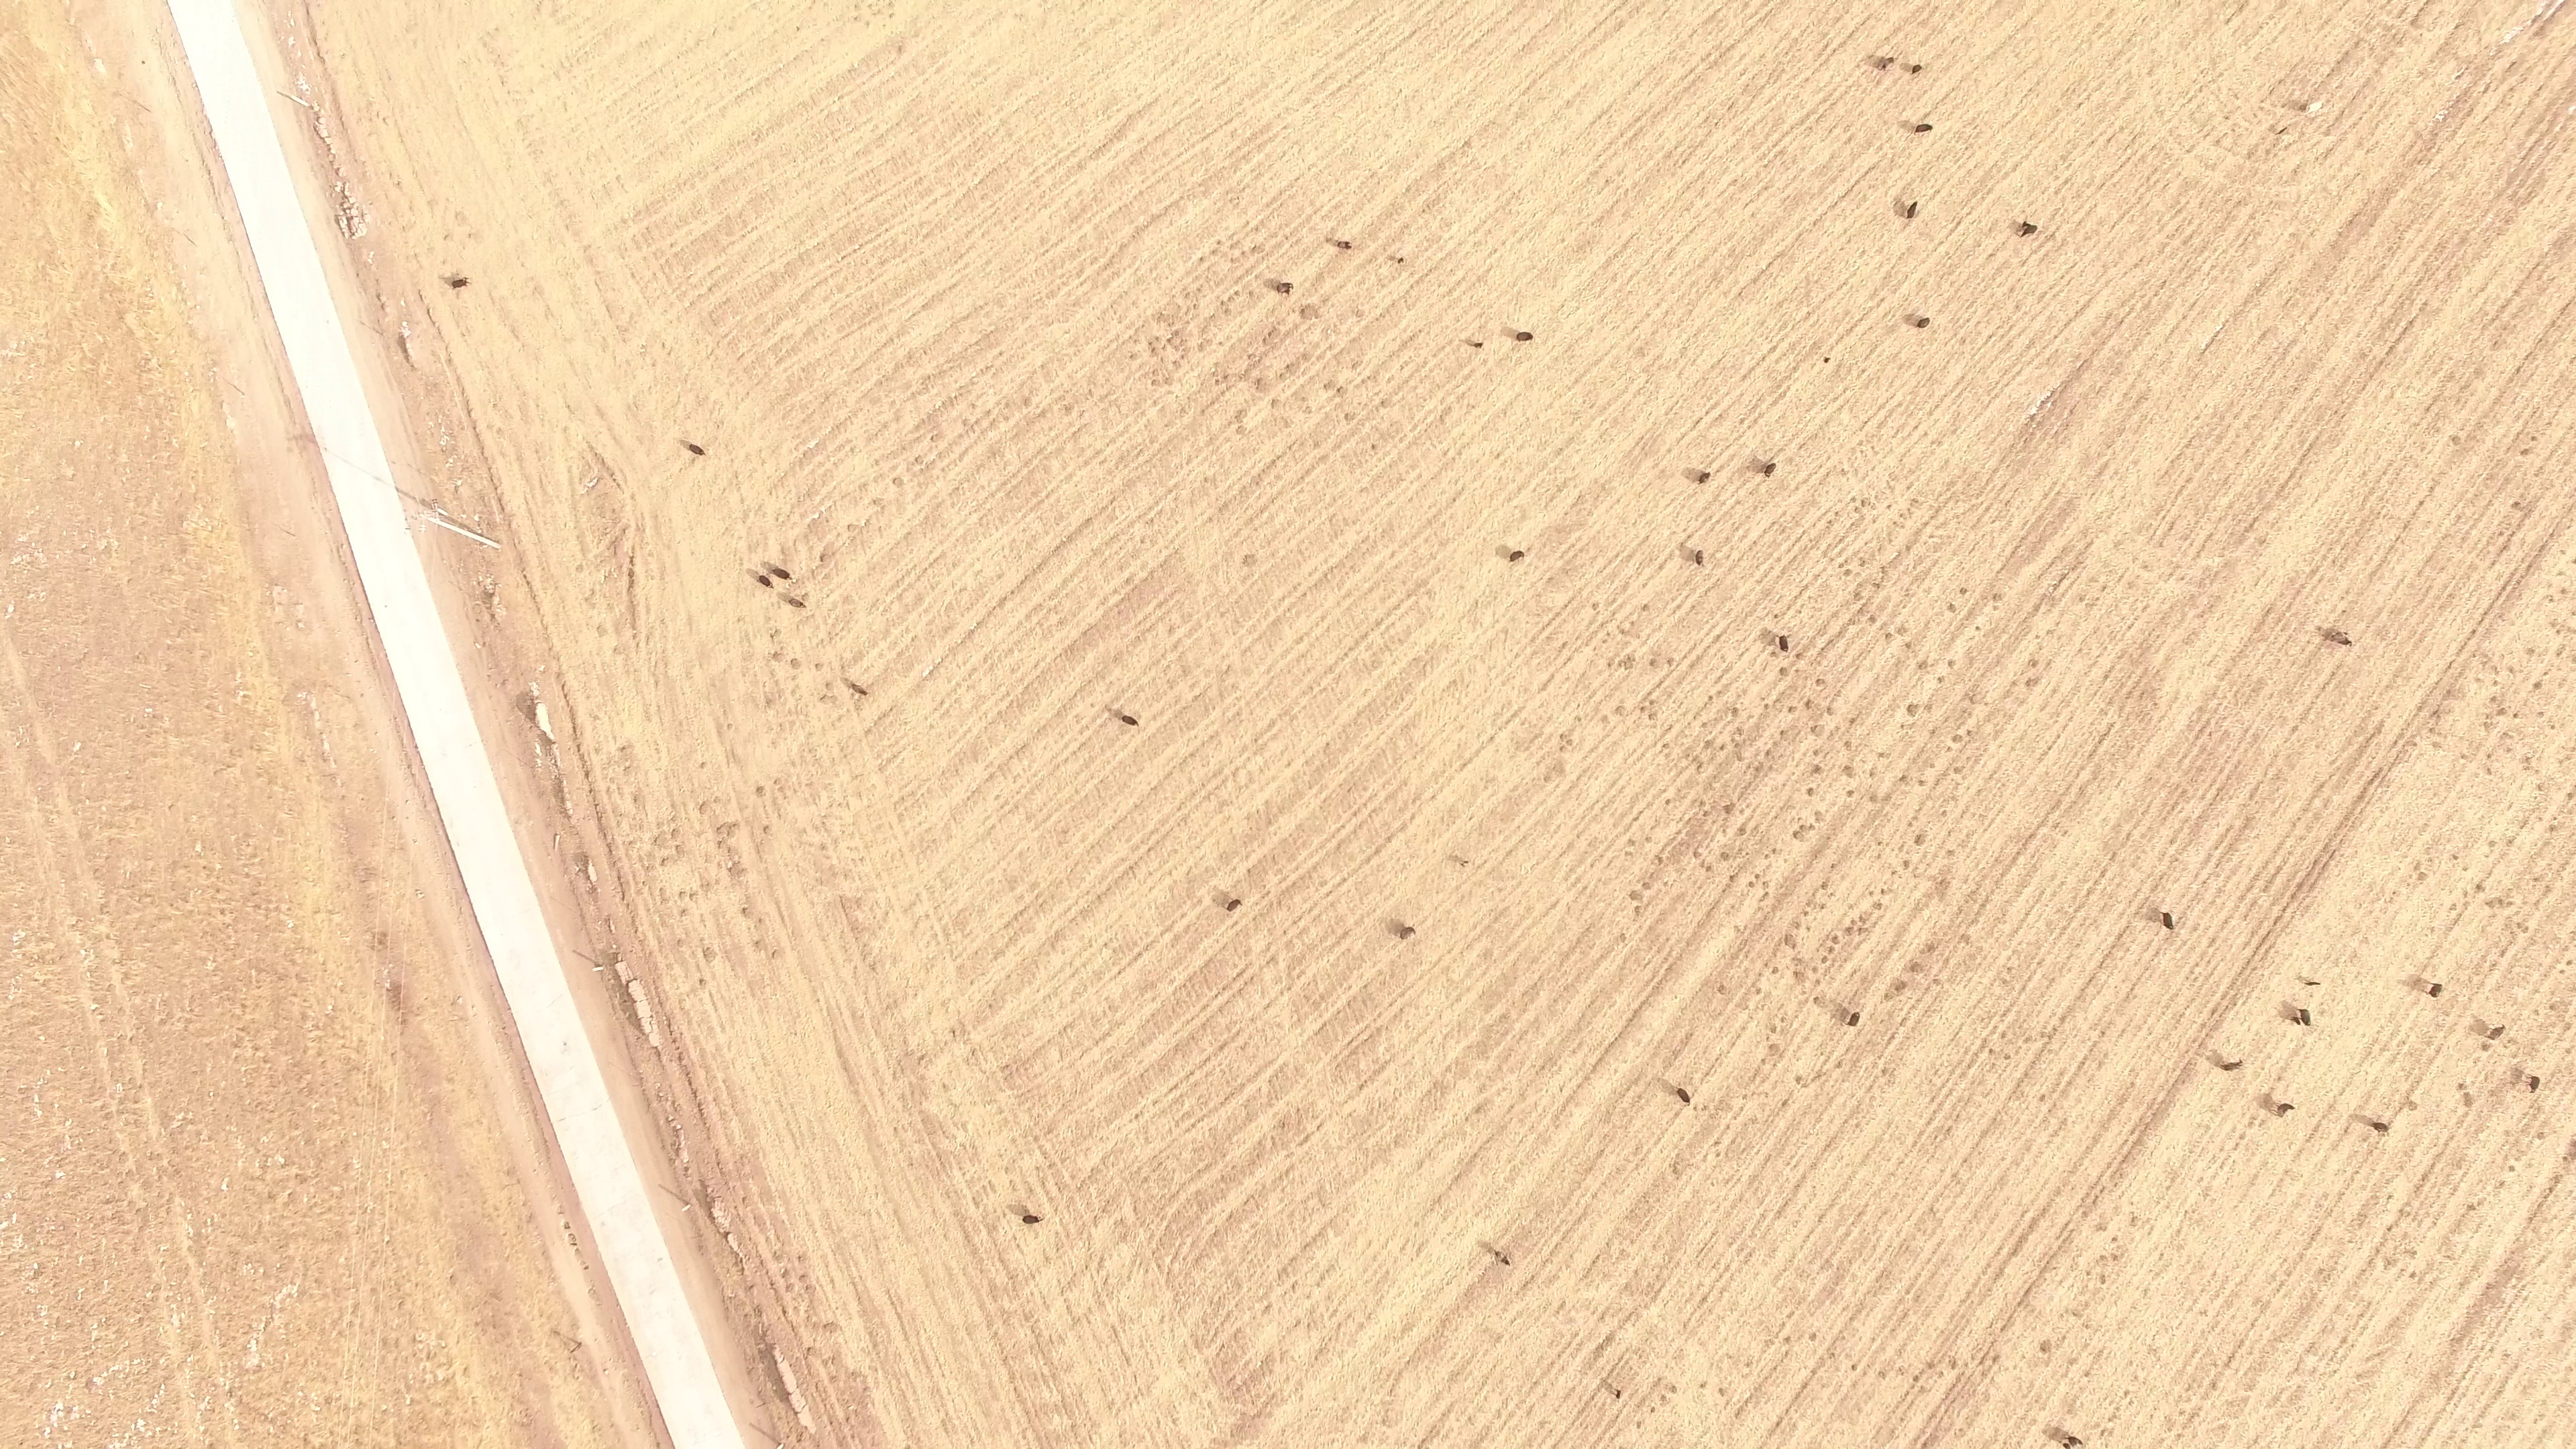sheep: (1112, 709, 1148, 733), (1489, 1246, 1517, 1271), (1017, 1206, 1048, 1230), (682, 438, 712, 460), (1670, 1085, 1697, 1107), (768, 562, 797, 584), (446, 274, 476, 294), (2483, 1022, 2508, 1043), (1221, 894, 1248, 914), (845, 680, 873, 700), (783, 594, 810, 612), (1274, 278, 1296, 299), (2295, 1005, 2314, 1029), (2157, 908, 2177, 933), (2273, 1100, 2297, 1120), (1844, 1007, 1863, 1030), (1397, 924, 1419, 943), (2059, 1432, 2084, 1449), (750, 572, 774, 590), (2365, 1120, 2392, 1136), (2426, 980, 2446, 1001), (1904, 200, 1921, 222), (2219, 1057, 2243, 1074), (1688, 548, 1707, 568), (1507, 547, 1527, 566), (2019, 221, 2041, 238), (1512, 329, 1536, 345), (1760, 461, 1779, 478), (1878, 56, 1897, 73), (2526, 1073, 2543, 1093), (1776, 633, 1792, 655), (1334, 237, 1354, 253), (1913, 121, 1936, 136), (1695, 470, 1714, 487), (1914, 315, 1933, 331), (1907, 62, 1925, 76), (2304, 978, 2320, 990), (1470, 340, 1486, 352), (1613, 1387, 1625, 1401), (1395, 255, 1407, 266)
unknown: (516, 1061, 542, 1101), (2320, 625, 2353, 649), (290, 428, 321, 451), (447, 847, 466, 883), (790, 1403, 815, 1430), (436, 816, 454, 848), (393, 332, 413, 365), (2530, 15, 2555, 40), (580, 855, 599, 883), (551, 777, 568, 807), (2256, 1090, 2277, 1114), (2015, 1283, 2035, 1309), (495, 981, 512, 1014), (718, 1228, 740, 1250), (538, 1099, 553, 1124), (2408, 974, 2430, 993), (480, 945, 496, 966), (343, 213, 358, 239), (388, 981, 405, 1004), (541, 1136, 554, 1165), (765, 1432, 785, 1449), (1892, 978, 1911, 996), (625, 565, 637, 591), (335, 199, 354, 215), (2460, 1089, 2475, 1110), (374, 929, 390, 949), (2512, 1065, 2526, 1087), (2289, 99, 2310, 114), (529, 1102, 542, 1125), (513, 1049, 531, 1066), (1721, 800, 1738, 817), (608, 1290, 623, 1309), (1906, 960, 1925, 975), (338, 558, 352, 576), (2565, 1137, 2576, 1163), (2130, 1134, 2145, 1149), (2294, 878, 2308, 894), (1764, 633, 1779, 649), (669, 1123, 682, 1141), (1904, 702, 1921, 717), (480, 588, 496, 604), (417, 496, 435, 511), (1297, 303, 1311, 320), (2027, 405, 2039, 425), (2037, 1339, 2050, 1355), (2270, 912, 2285, 928), (1810, 761, 1825, 777), (406, 729, 419, 745), (2310, 100, 2324, 113), (135, 1417, 147, 1434), (671, 1144, 684, 1160), (458, 881, 471, 898), (426, 787, 439, 805), (1841, 762, 1855, 780), (365, 606, 378, 623), (331, 211, 343, 227), (1766, 1040, 1780, 1055), (1924, 942, 1937, 955), (753, 783, 767, 796), (1646, 655, 1659, 669), (570, 1197, 583, 1214), (2309, 856, 2322, 873), (1912, 831, 1925, 847), (386, 669, 398, 685), (248, 1337, 259, 1354), (170, 1311, 181, 1328), (652, 1120, 663, 1137), (637, 1387, 649, 1401), (1989, 1352, 2002, 1366), (1807, 1330, 1819, 1344), (756, 1330, 770, 1344), (2097, 1272, 2108, 1287), (561, 1219, 573, 1232), (2464, 1201, 2479, 1214), (2418, 1170, 2431, 1184), (2479, 1041, 2491, 1054), (1768, 1023, 1780, 1036), (496, 1014, 508, 1027), (1829, 933, 1841, 947), (1842, 924, 1856, 936), (1627, 888, 1641, 903), (432, 804, 444, 819), (1867, 792, 1880, 804), (2355, 791, 2367, 804), (1804, 785, 1817, 799), (1701, 738, 1714, 752), (396, 701, 409, 715), (2531, 680, 2545, 692), (368, 657, 380, 673), (1792, 649, 1806, 662), (370, 623, 382, 637), (1866, 614, 1878, 626), (816, 550, 828, 565), (2536, 542, 2548, 555), (2518, 445, 2532, 458), (792, 1397, 808, 1409), (48, 1412, 60, 1424), (53, 1399, 66, 1411), (1910, 1373, 1922, 1385), (680, 1197, 692, 1208), (550, 1138, 562, 1150), (1472, 1105, 1484, 1116), (2037, 1092, 2048, 1104), (1792, 1073, 1805, 1087), (512, 1028, 523, 1040), (2546, 1001, 2559, 1013), (739, 905, 749, 916), (2485, 898, 2496, 910), (2495, 896, 2506, 908), (2288, 890, 2300, 902), (2473, 881, 2485, 894), (2415, 870, 2427, 883), (1900, 857, 1913, 871), (1717, 851, 1730, 863), (2364, 777, 2376, 789), (581, 767, 592, 781), (1752, 763, 1764, 775), (1847, 714, 1860, 727), (2494, 706, 2507, 718), (1729, 704, 1741, 716), (1802, 699, 1813, 711), (2023, 677, 2034, 690), (1902, 639, 1915, 651), (1759, 631, 1770, 642), (487, 610, 498, 623), (2031, 601, 2043, 614), (1957, 586, 1969, 598), (2524, 560, 2536, 574), (2509, 498, 2522, 511), (1821, 354, 1832, 366), (2386, 341, 2399, 354), (323, 141, 334, 154), (1715, 1385, 1727, 1399), (2455, 1080, 2466, 1093), (591, 958, 602, 971), (2411, 861, 2422, 873), (2565, 790, 2576, 803), (2029, 657, 2041, 670), (627, 553, 637, 566), (43, 1425, 53, 1436), (1604, 1381, 1615, 1392), (744, 1367, 755, 1379), (1948, 1360, 1959, 1373), (1925, 1360, 1938, 1372), (2453, 1334, 2465, 1345), (1782, 1334, 1794, 1345), (1603, 1332, 1613, 1344), (2407, 1270, 2418, 1281), (2500, 1267, 2512, 1278), (2110, 1252, 2121, 1263), (695, 1242, 706, 1254), (1, 1219, 10, 1232), (2534, 1201, 2545, 1212), (2546, 1184, 2557, 1196), (53, 1169, 66, 1181), (2506, 1163, 2518, 1175), (2150, 1110, 2160, 1121), (398, 1016, 409, 1027), (2209, 1004, 2221, 1016), (1770, 966, 1781, 976), (1825, 945, 1836, 957), (1781, 934, 1792, 946), (588, 884, 600, 896), (2306, 880, 2318, 892), (1726, 872, 1737, 885), (1703, 863, 1715, 874), (1655, 854, 1666, 867), (2321, 841, 2332, 852), (1790, 828, 1801, 840), (1736, 824, 1748, 836), (1951, 765, 1963, 777), (404, 760, 415, 772), (1876, 750, 1887, 761), (1564, 737, 1575, 748), (1949, 733, 1960, 745), (2374, 724, 2384, 737), (570, 723, 580, 735), (2430, 707, 2442, 718), (1646, 697, 1657, 708), (2487, 694, 2499, 705), (2443, 687, 2454, 699), (1776, 665, 1788, 678), (484, 603, 495, 613), (2498, 583, 2510, 594), (1842, 566, 1854, 578), (1902, 543, 1914, 554), (2250, 514, 2261, 525), (2416, 498, 2427, 508), (1858, 498, 1869, 510), (2528, 433, 2540, 444), (1253, 375, 1264, 387), (372, 290, 384, 301), (1386, 253, 1398, 264), (339, 192, 350, 202), (331, 165, 342, 176), (1648, 1404, 1658, 1415), (759, 1396, 769, 1407), (1668, 1383, 1678, 1393), (1799, 1382, 1810, 1392), (1849, 1361, 1860, 1371), (250, 1356, 261, 1366), (1593, 1346, 1603, 1356), (574, 1339, 585, 1350), (1699, 1294, 1710, 1305), (2509, 1267, 2519, 1277), (2096, 1252, 2106, 1263), (2055, 1242, 2065, 1252), (2012, 1242, 2022, 1252), (2029, 1216, 2040, 1227), (2080, 1208, 2090, 1218), (2396, 1206, 2406, 1217), (2090, 1196, 2100, 1207), (2413, 1183, 2423, 1194), (219, 1181, 229, 1193), (2551, 1173, 2562, 1184), (1670, 1166, 1680, 1177), (681, 1164, 692, 1175), (2560, 1153, 2571, 1165), (2122, 1152, 2132, 1162), (2534, 1131, 2544, 1141), (2143, 1120, 2153, 1130), (34, 1108, 45, 1118), (694, 1100, 704, 1111), (1779, 1098, 1790, 1109), (2159, 1097, 2169, 1107), (32, 1094, 42, 1105), (685, 1077, 695, 1089), (1832, 1061, 1843, 1071), (916, 1053, 927, 1064), (675, 1053, 685, 1064), (1986, 1046, 1996, 1056), (506, 1037, 516, 1047), (1373, 1025, 1383, 1035), (2058, 1013, 2068, 1024), (494, 1004, 504, 1015), (2230, 998, 2240, 1008), (1811, 994, 1821, 1005), (1881, 991, 1891, 1002), (1790, 968, 1801, 978), (2564, 957, 2575, 968), (700, 951, 710, 961), (2497, 950, 2507, 960), (1788, 941, 1799, 951), (1855, 924, 1865, 934), (1847, 917, 1858, 927), (1978, 900, 1988, 910), (1878, 886, 1888, 897), (1642, 881, 1653, 892), (1819, 879, 1829, 890), (1746, 879, 1757, 890), (2531, 875, 2542, 885), (2302, 871, 2312, 881), (1752, 871, 1763, 881), (2451, 853, 2461, 863), (572, 851, 582, 862), (2109, 849, 2119, 859), (1946, 847, 1956, 857), (714, 837, 724, 847), (2546, 824, 2557, 835), (1796, 822, 1807, 833), (594, 814, 604, 825), (1701, 808, 1711, 819), (1845, 787, 1856, 798), (2360, 784, 2370, 794), (1897, 773, 1908, 784), (409, 770, 419, 781), (2522, 755, 2532, 765), (1762, 749, 1772, 759), (1811, 748, 1821, 759), (413, 747, 423, 757), (72, 741, 83, 752), (1964, 727, 1974, 738), (1808, 725, 1818, 735), (2548, 722, 2558, 733), (404, 720, 414, 731), (568, 714, 578, 724), (1646, 711, 1656, 722), (2510, 710, 2520, 721), (2414, 704, 2425, 715), (1761, 701, 1771, 712), (1966, 693, 1976, 704), (1705, 693, 1715, 704), (531, 687, 541, 697), (789, 660, 799, 670), (1945, 658, 1955, 669), (1920, 657, 1930, 668), (1624, 654, 1634, 665), (769, 653, 781, 663), (1769, 649, 1779, 659), (374, 635, 385, 646), (2553, 627, 2563, 637), (5, 604, 15, 615), (2558, 586, 2569, 597), (352, 567, 362, 578), (1858, 559, 1868, 570), (349, 556, 359, 567), (607, 538, 618, 548), (2242, 525, 2252, 535), (2246, 521, 2256, 531), (300, 443, 310, 453), (1341, 413, 1352, 423), (2038, 398, 2049, 408), (1212, 376, 1222, 388), (1220, 372, 1231, 382), (262, 294, 272, 304), (2345, 217, 2356, 228), (1461, 138, 1471, 148), (310, 121, 320, 132), (1898, 121, 1910, 131), (311, 108, 321, 118), (2352, 39, 2362, 49), (2408, 18, 2418, 28), (1918, 1440, 1930, 1449), (2488, 1282, 2500, 1292), (1368, 441, 1379, 453), (112, 1440, 123, 1449), (769, 1423, 779, 1433), (2209, 1379, 2219, 1390), (633, 1376, 643, 1386), (1809, 1367, 1820, 1377), (1623, 1313, 1633, 1324), (782, 1267, 792, 1277), (2109, 1234, 2120, 1244), (2384, 1224, 2394, 1234), (2128, 1215, 2138, 1226), (659, 1142, 669, 1152), (2406, 1098, 2416, 1108), (1590, 1063, 1600, 1073), (1538, 1063, 1548, 1073), (1758, 1056, 1768, 1067), (835, 1047, 845, 1058), (1998, 1030, 2008, 1041), (1715, 985, 1725, 996), (696, 975, 706, 985), (1819, 955, 1829, 965), (839, 902, 849, 912), (2504, 898, 2515, 908), (1936, 879, 1946, 889), (724, 865, 735, 875), (1126, 863, 1136, 873), (2321, 859, 2331, 869), (2009, 855, 2019, 865), (1452, 853, 1462, 863), (2326, 853, 2336, 863), (1690, 849, 1700, 859), (1662, 798, 1672, 808), (2316, 782, 2326, 792), (1541, 774, 1551, 784), (1735, 754, 1745, 764), (2484, 751, 2494, 761), (401, 750, 411, 760), (1841, 739, 1851, 749), (2481, 722, 2491, 732), (2536, 708, 2546, 718), (1824, 704, 1834, 714), (1638, 704, 1648, 715), (498, 679, 508, 689), (1664, 657, 1674, 667), (1713, 631, 1723, 641), (1972, 623, 1982, 633), (1771, 612, 1781, 622), (1641, 601, 1651, 611), (2076, 595, 2086, 605), (1008, 588, 1018, 598), (1873, 580, 1883, 591), (1878, 567, 1888, 577), (1082, 517, 1092, 527), (1743, 463, 1754, 473), (1334, 385, 1344, 396), (2074, 366, 2084, 376), (1148, 345, 1158, 355), (1164, 335, 1174, 345), (2398, 328, 2408, 338), (2406, 318, 2416, 329), (377, 302, 387, 312), (2530, 15, 2540, 25), (2560, 1, 2571, 8), (2494, 1387, 2504, 1397), (2340, 1334, 2350, 1344), (753, 937, 763, 947), (2571, 1274, 2576, 1284), (2570, 654, 2576, 665)
